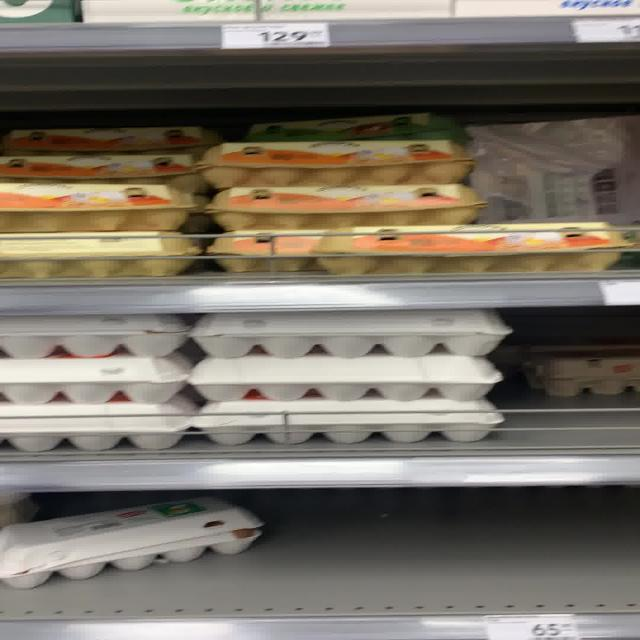egg box: (2, 492, 262, 569), (306, 220, 632, 278), (194, 140, 478, 188), (201, 183, 485, 228), (2, 176, 196, 234), (2, 147, 200, 191), (2, 123, 210, 155)
